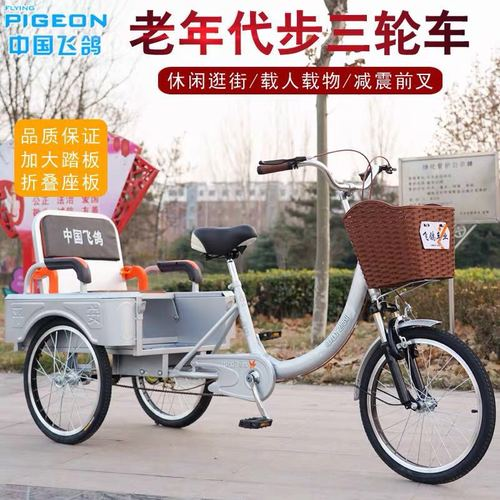empty: (14, 169, 494, 488)
